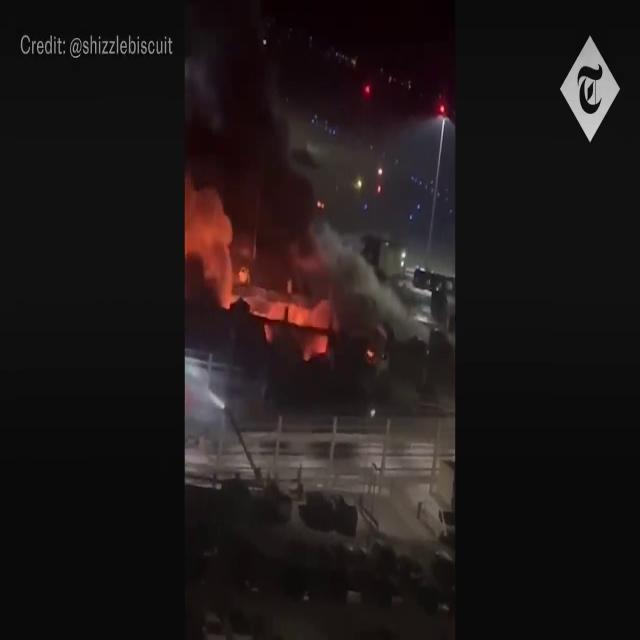Fire: (185, 188, 248, 312), (264, 283, 335, 361)
Smoke: (184, 0, 332, 264)
